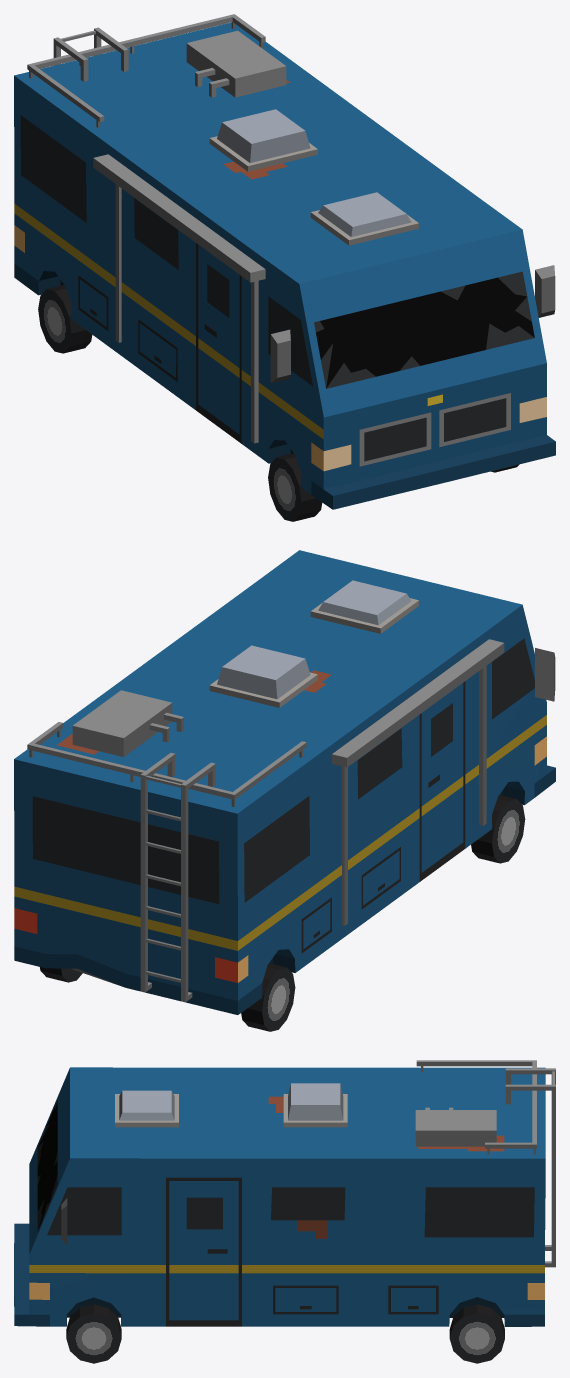
Rendered from SA_Bld_TrailerRV_Damaged_04.gltf.
3 renders of one model, top to bottom at view 1: azimuth 30°, elevation 25°; view 2: azimuth 150°, elevation 25°; view 3: azimuth 270°, elevation 25°, orthographic. The views are drawn at different scales.
Parts seen in each view (by area): view 1: SA_Bld_TrailerRV_Damaged_04; view 2: SA_Bld_TrailerRV_Damaged_04; view 3: SA_Bld_TrailerRV_Damaged_04.
Part boxes in pixels (bbox=[...]): SA_Bld_TrailerRV_Damaged_04: bbox=[14, 14, 555, 521]; SA_Bld_TrailerRV_Damaged_04: bbox=[14, 550, 555, 1031]; SA_Bld_TrailerRV_Damaged_04: bbox=[14, 1060, 555, 1363].
Bounding box in the file's own units: 4.74 × 4.29 × 9.41.
Materials: 1 (1 with a texture image).
